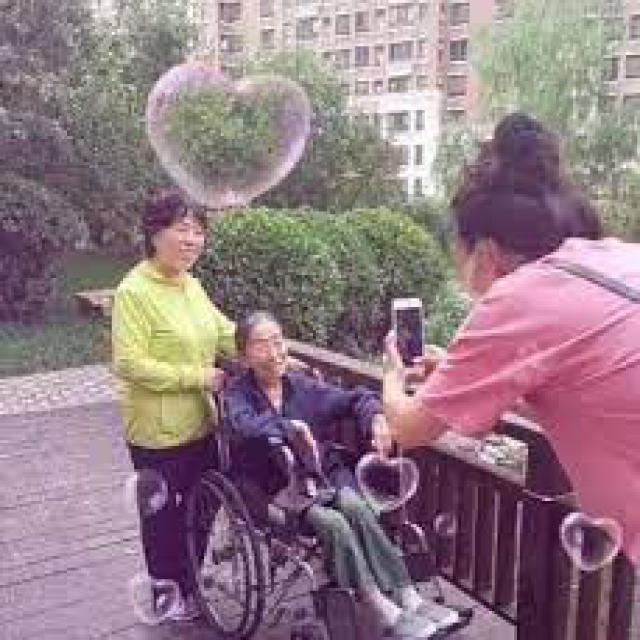wheelchairs: (142, 382, 476, 637)
